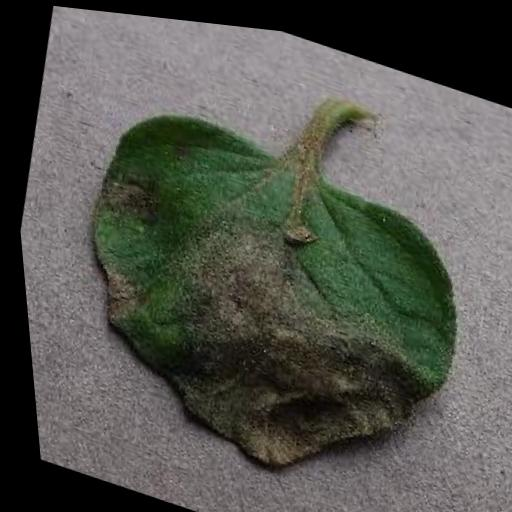Late Blight: (33, 74, 496, 512)
